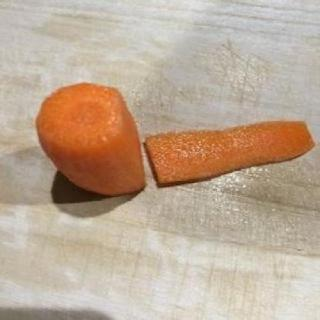carrot: (34, 76, 150, 212)
